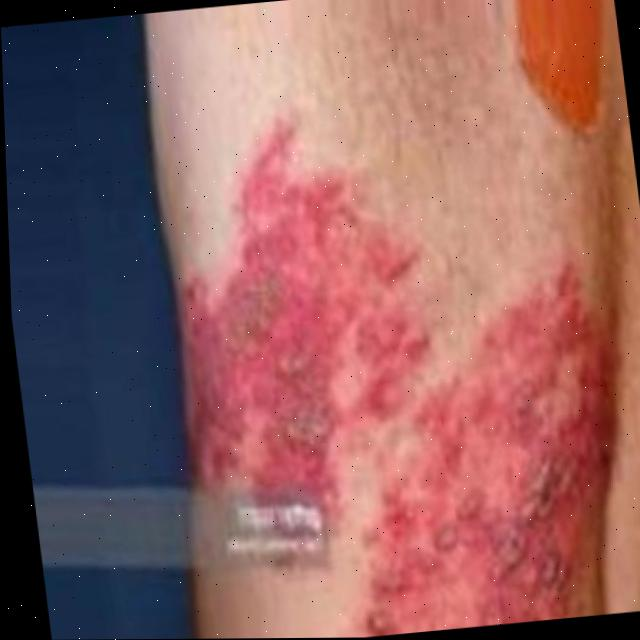Shingles: (145, 122, 459, 534), (316, 259, 640, 638)
